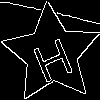H: (26, 28, 76, 85)
